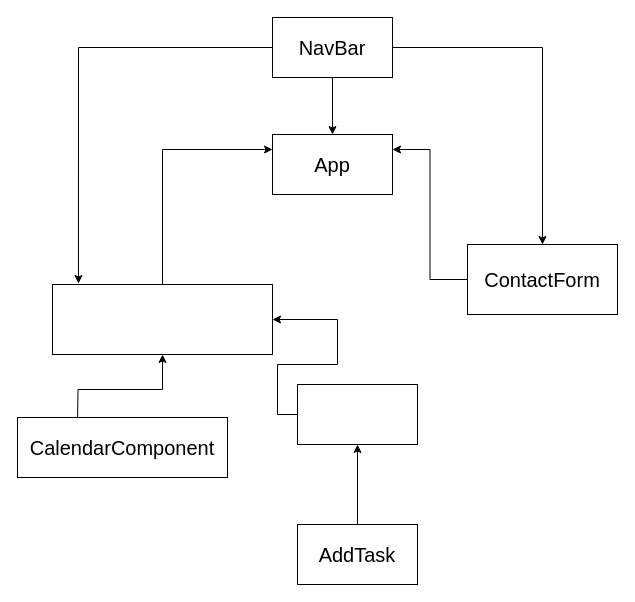
Image size: 635x602. Some labels were removed from this diagram. The centre of each missing label's shape, as x and y in pixels:
"Calendar" belongs at pixel 162 319.
"TaskList" belongs at pixel 357 414.
